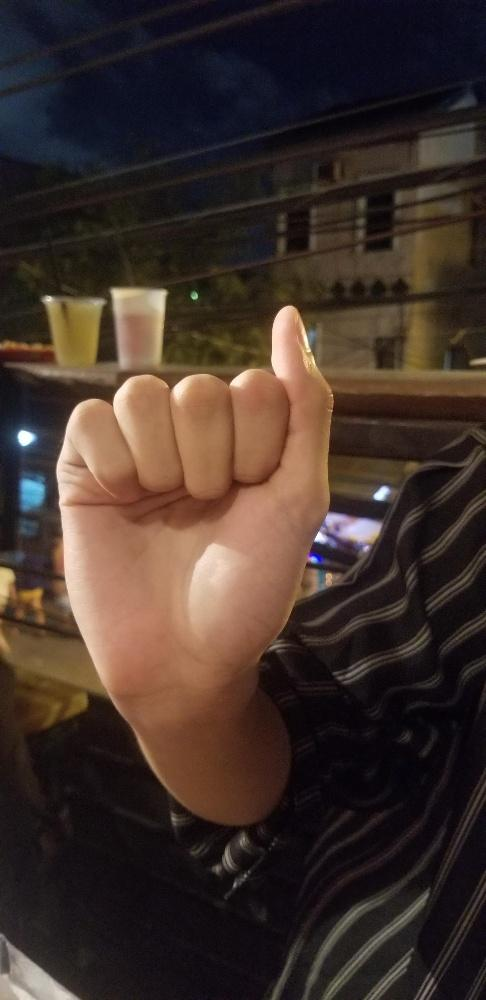a: (51, 298, 337, 686)
